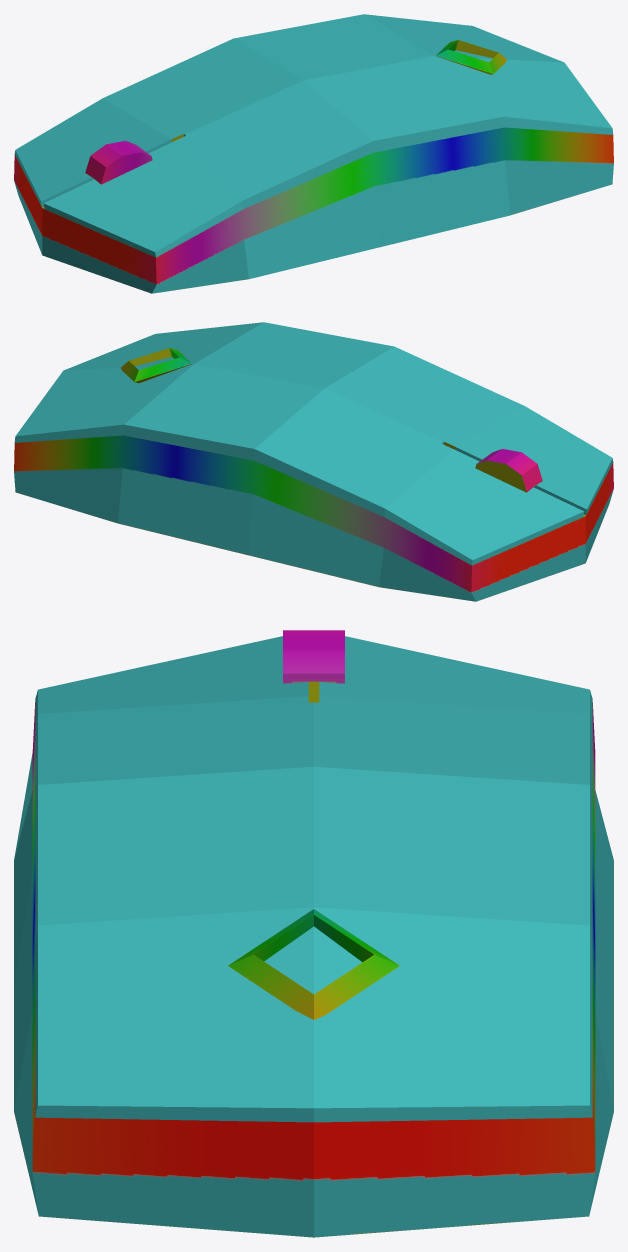
Rendered from mouseDiamond.fbx.
3 views of the same model, one above another, from view 1: azimuth 30°, elevation 25°; view 2: azimuth 150°, elevation 25°; view 3: azimuth 270°, elevation 25° (orthographic). The views are drawn at different scales.
Visible parts, largest first — view 1: Mouse; view 2: Mouse; view 3: Mouse.
Part boxes in pixels (x1,y1,x2,y2): Mouse: [14, 14, 613, 293]; Mouse: [14, 322, 613, 601]; Mouse: [14, 630, 613, 1237].
Bounding box in the file's own units: 2.3 × 1.16 × 0.4683.
